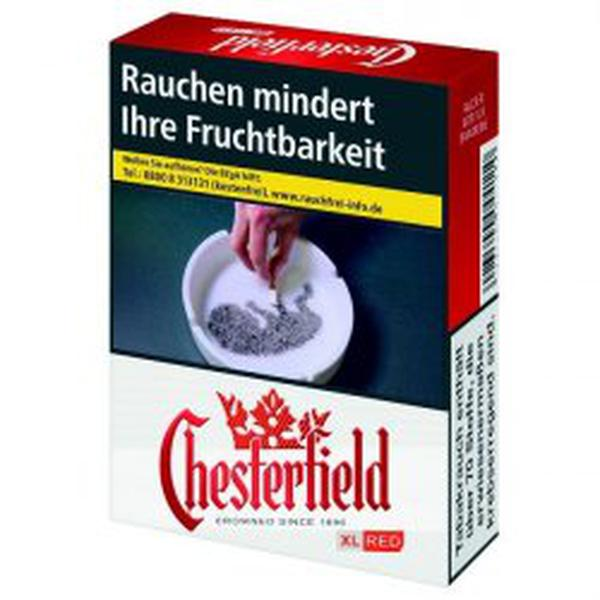chesterfield_red: (112, 82, 445, 536)
